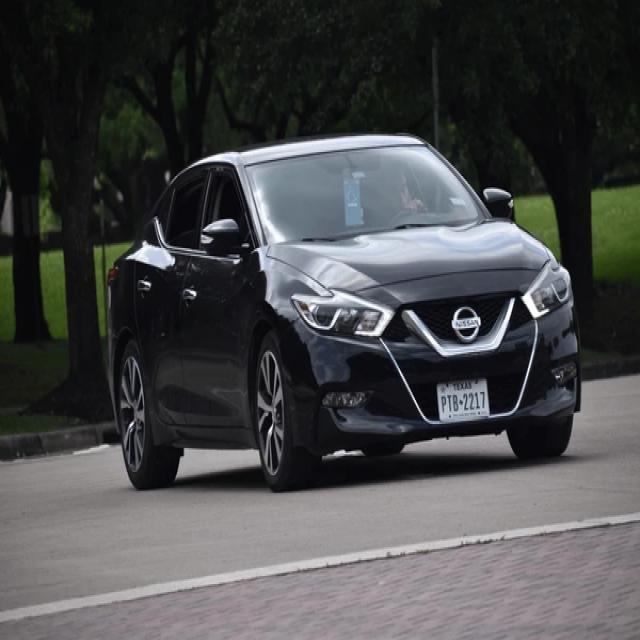nissan: (452, 307, 479, 347)
